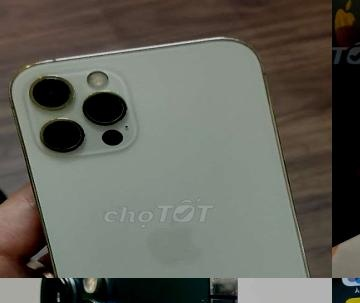scratch: (194, 278, 238, 303)
